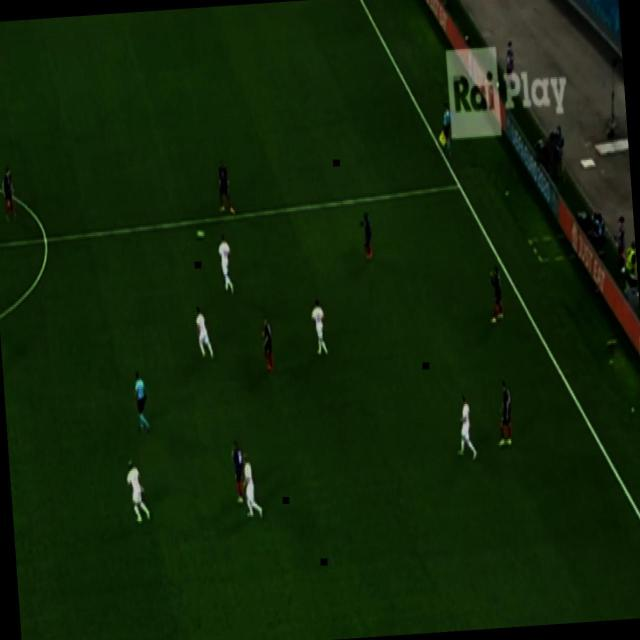player-white: (124, 458, 152, 525), (241, 449, 267, 519), (453, 392, 478, 463), (493, 379, 515, 450), (130, 368, 152, 436), (230, 440, 250, 508), (216, 233, 236, 299), (486, 264, 506, 326), (216, 159, 237, 217), (309, 298, 329, 356), (194, 305, 215, 359), (259, 313, 277, 374), (0, 165, 18, 222), (357, 210, 374, 263), (440, 100, 454, 160), (496, 81, 502, 89)
